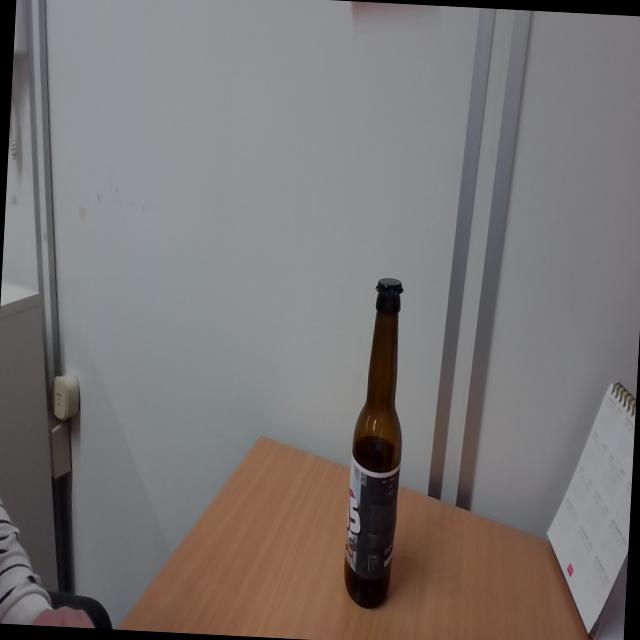Bottle: (344, 274, 411, 608)
Cap: (372, 276, 407, 300)
Label: (344, 460, 400, 581)
